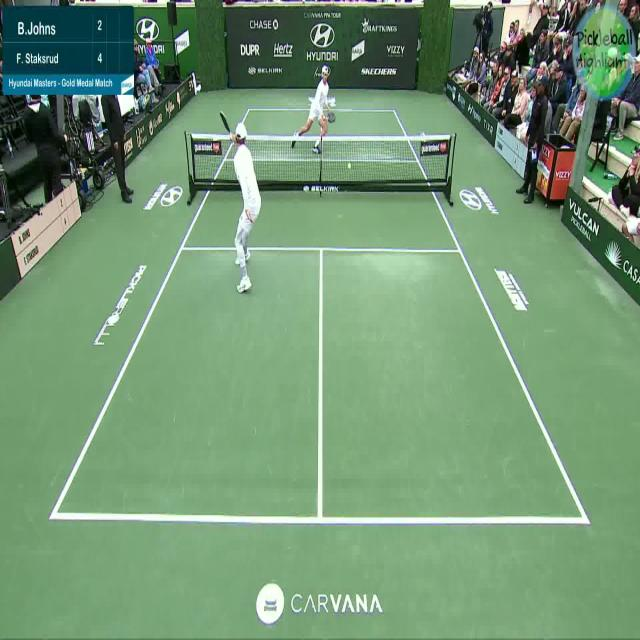ball: (344, 158, 354, 172)
